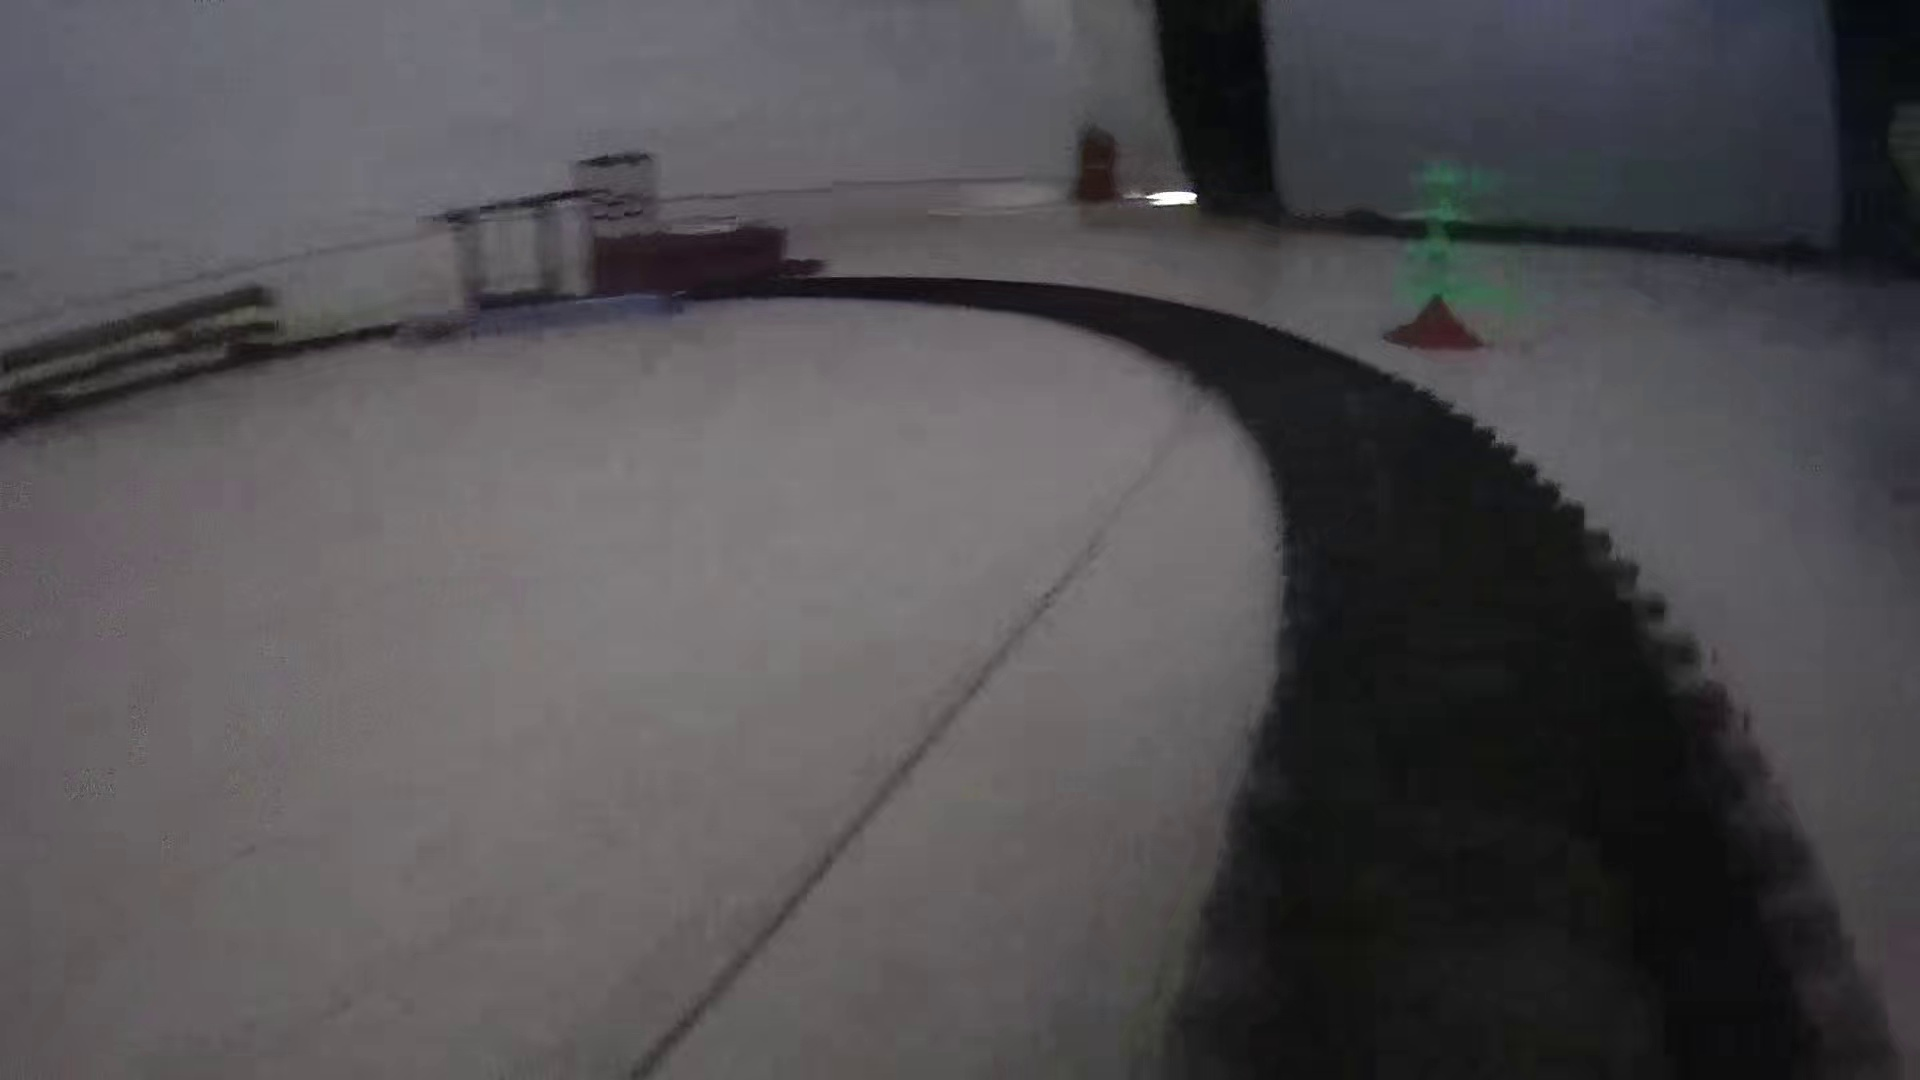tree: (1377, 145, 1495, 353)
